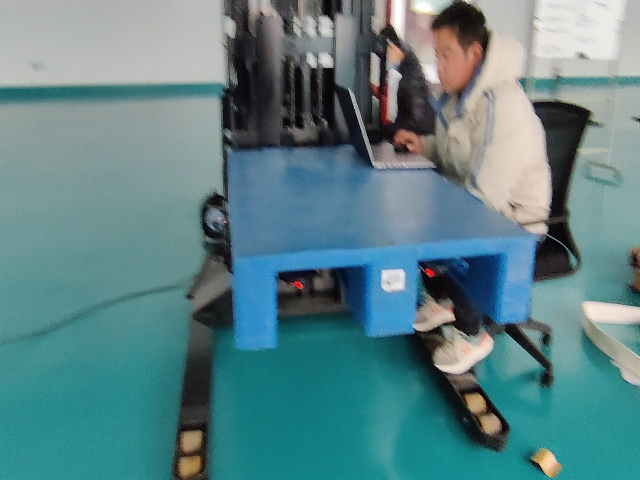block: (364, 244, 417, 338), (234, 256, 279, 350), (497, 236, 537, 320)
front: (236, 238, 540, 350)
hole pallet: (275, 265, 369, 342), (414, 254, 503, 329)
